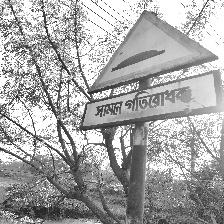Speed-breaker: (83, 9, 224, 132)
